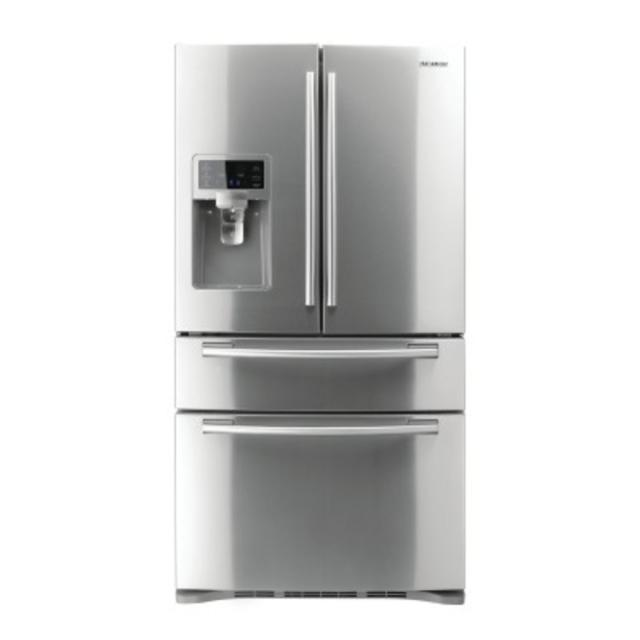obstacle: (144, 28, 495, 628)
